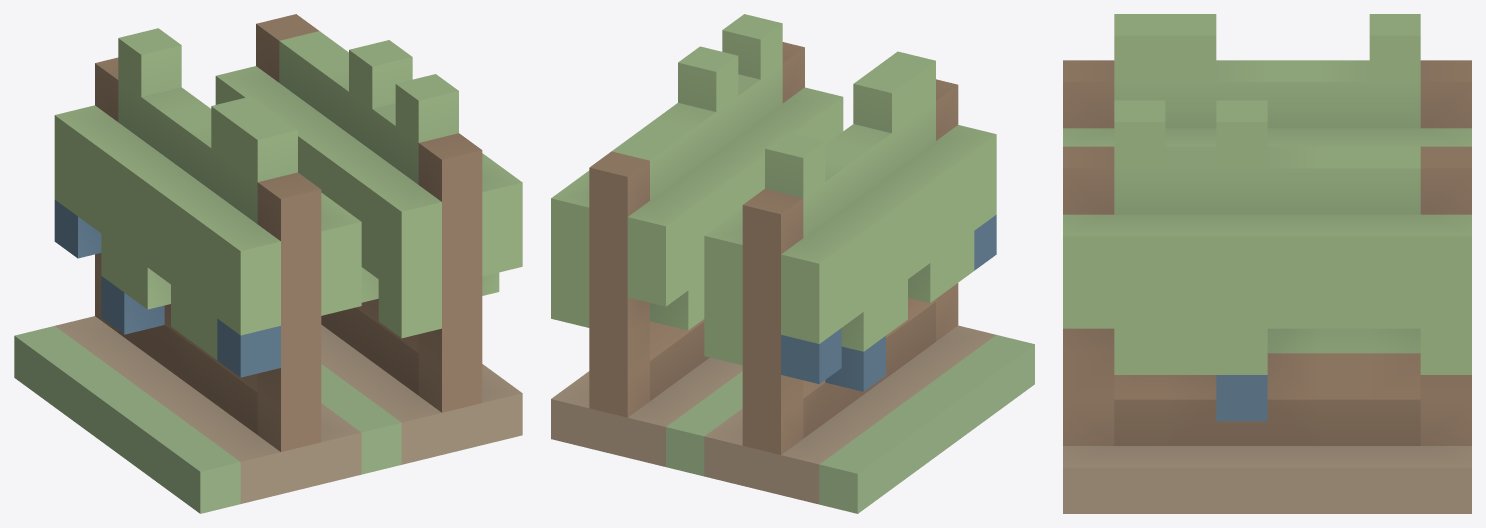
Rendered from vine_row.glb.
3 views of the same model, side by side, from view 1: azimuth 30°, elevation 25°; view 2: azimuth 150°, elevation 25°; view 3: azimuth 270°, elevation 25° (orthographic). The views are drawn at different scales.
Parts seen in each view (by area): view 1: vine_row; view 2: vine_row; view 3: vine_row.
Part boxes in pixels (x1,y1,x2,y2): vine_row: [14, 14, 522, 513]; vine_row: [551, 14, 1034, 513]; vine_row: [1063, 14, 1471, 513].
Size of the model in its own units: 1 by 1 by 1.
